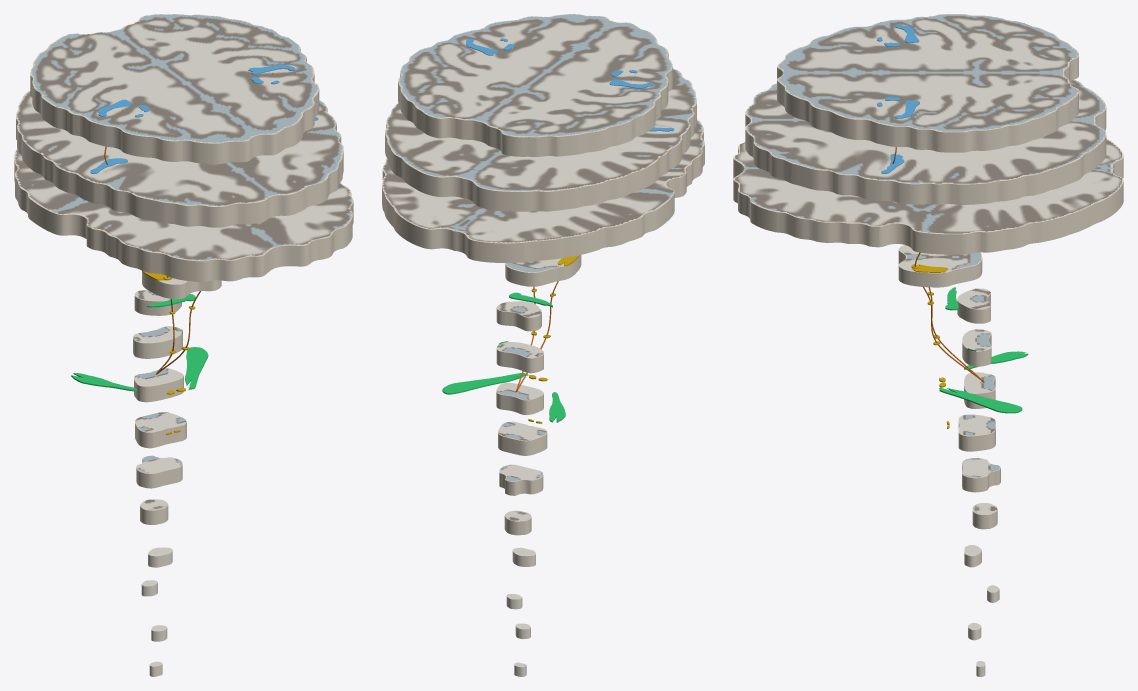
3 views of the same model, side by side, from view 1: azimuth 30°, elevation 25°; view 2: azimuth 150°, elevation 25°; view 3: azimuth 270°, elevation 25° (orthographic). The views are drawn at different scales.
Parts seen in each view (by area): view 1: L15·切面（灰白质）, L14·切面（灰白质）, L13·切面（灰白质）, L13·背景·丘脑内囊, L14·背景·放射冠, L15·背景·皮质上部, L08·小脑中脚（脑桥臂）, L11·背景·下丘, L07·背景·橄榄中部, L09·背景·脑桥中部, L08·背景·脑桥下部, L06·背景·丘系交叉 (+5 smaller); view 2: L15·切面（灰白质）, L14·切面（灰白质）, L13·切面（灰白质）, L13·背景·丘脑内囊, L14·背景·放射冠, L15·背景·皮质上部, L11·背景·下丘, L08·小脑中脚（脑桥臂）, L07·背景·橄榄中部, L09·背景·脑桥中部, L08·背景·脑桥下部, L10·背景·脑桥上部 (+7 smaller); view 3: L15·切面（灰白质）, L14·切面（灰白质）, L13·切面（灰白质）, L13·背景·丘脑内囊, L14·背景·放射冠, L15·背景·皮质上部, L11·背景·下丘, L11·切面（灰白质）, L08·小脑中脚（脑桥臂）, L07·切面（灰白质）, L07·背景·橄榄中部, L06·背景·丘系交叉.
Boxes of the visible parts, left/top/right/bottom form: L15·切面（灰白质）: left=31, top=14, right=318, bottom=142; L14·切面（灰白质）: left=17, top=91, right=342, bottom=206; L13·切面（灰白质）: left=15, top=150, right=352, bottom=260; L13·背景·丘脑内囊: left=14, top=148, right=353, bottom=281; L14·背景·放射冠: left=16, top=91, right=343, bottom=227; L15·背景·皮质上部: left=30, top=14, right=319, bottom=164; L08·小脑中脚（脑桥臂）: left=71, top=347, right=208, bottom=391; L11·背景·下丘: left=142, top=271, right=221, bottom=299; L07·背景·橄榄中部: left=135, top=413, right=186, bottom=448; L09·背景·脑桥中部: left=133, top=329, right=182, bottom=358; L08·背景·脑桥下部: left=134, top=373, right=183, bottom=402; L06·背景·丘系交叉: left=136, top=458, right=182, bottom=488; L15·切面（灰白质）: left=399, top=14, right=671, bottom=136; L14·切面（灰白质）: left=385, top=68, right=695, bottom=191; L13·切面（灰白质）: left=383, top=121, right=703, bottom=242; L13·背景·丘脑内囊: left=382, top=119, right=704, bottom=263; L14·背景·放射冠: left=385, top=68, right=696, bottom=211; L15·背景·皮质上部: left=398, top=14, right=672, bottom=156; L11·背景·下丘: left=505, top=255, right=581, bottom=286; L08·小脑中脚（脑桥臂）: left=442, top=373, right=565, bottom=422; L07·背景·橄榄中部: left=498, top=423, right=547, bottom=455; L09·背景·脑桥中部: left=496, top=344, right=543, bottom=373; L08·背景·脑桥下部: left=496, top=384, right=543, bottom=415; L10·背景·脑桥上部: left=496, top=301, right=541, bottom=331; L15·切面（灰白质）: left=779, top=14, right=1078, bottom=131; L14·切面（灰白质）: left=747, top=80, right=1104, bottom=183; L13·切面（灰白质）: left=735, top=138, right=1121, bottom=233; L13·背景·丘脑内囊: left=733, top=139, right=1123, bottom=254; L14·背景·放射冠: left=745, top=79, right=1106, bottom=204; L15·背景·皮质上部: left=777, top=14, right=1078, bottom=152; L11·背景·下丘: left=898, top=245, right=982, bottom=287; L11·切面（灰白质）: left=900, top=245, right=980, bottom=272; L08·小脑中脚（脑桥臂）: left=939, top=351, right=1028, bottom=413; L07·切面（灰白质）: left=959, top=414, right=995, bottom=435; L07·背景·橄榄中部: left=958, top=418, right=995, bottom=451; L06·背景·丘系交叉: left=962, top=460, right=1000, bottom=492.
Size of the model in its own units: 13.92 by 29.77 by 17.47.
